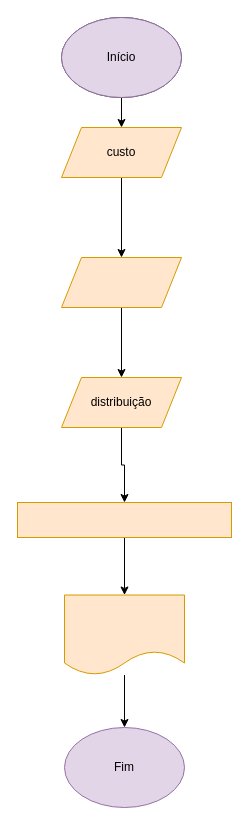
Some shapes in this 249 by 825 pixel diagram are drawn without their labels. The centre of each missing label's shape, as x and y in pixels:
Custo para o consumidor: the point at 124,634
imposto: the point at 121,282
total = (custo + imposto + distribuição): the point at 124,520
